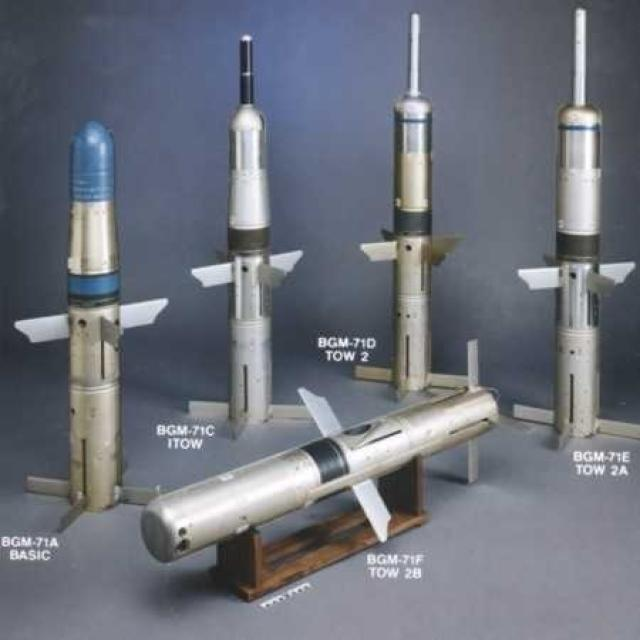missile: (144, 338, 497, 586), (43, 114, 144, 528), (545, 2, 620, 443), (209, 29, 289, 429), (368, 11, 448, 386)
